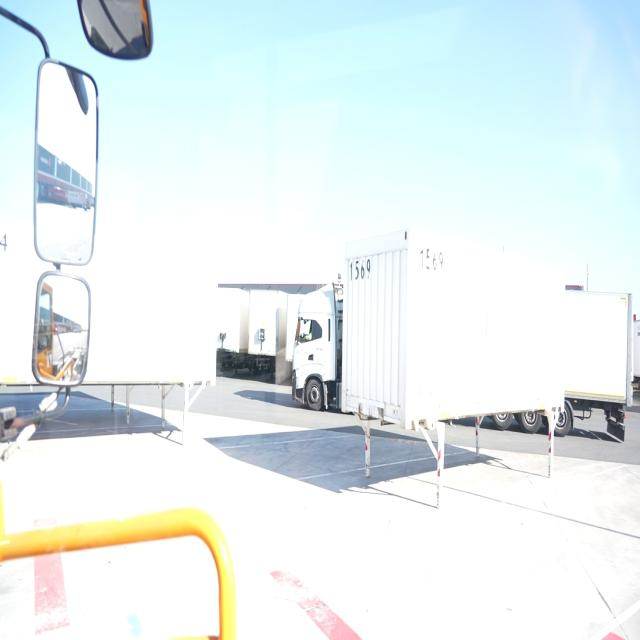Code: (347, 253, 373, 288)
